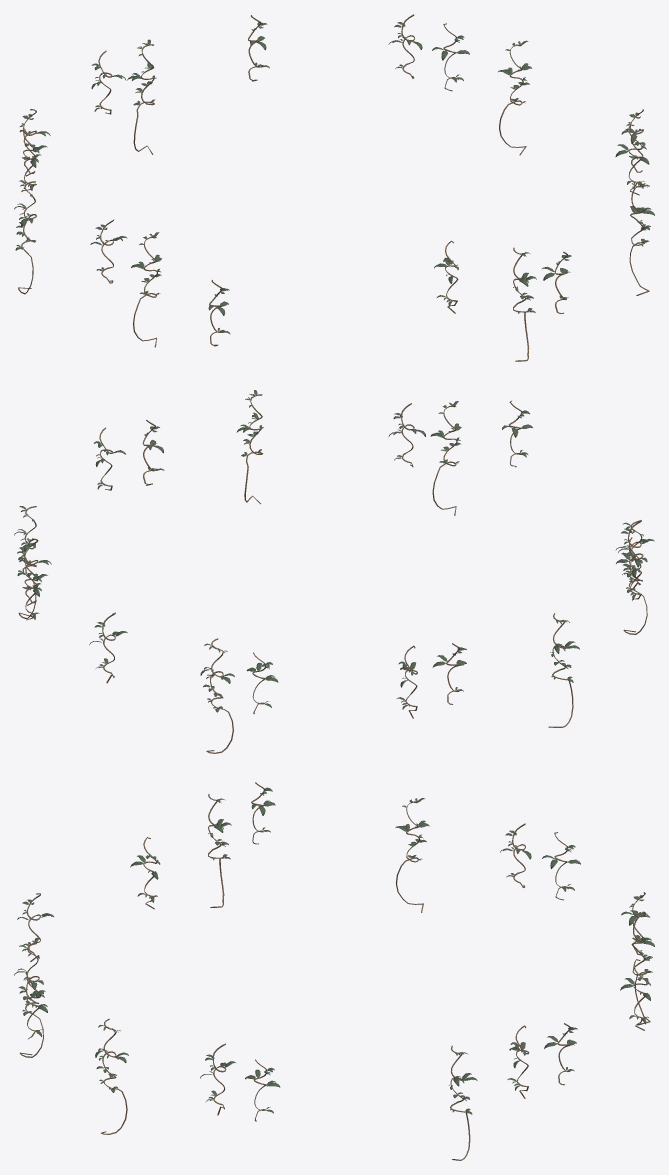
The model's file is atrium_Vines.fbx.
3 renders of one model, top to bottom at view 1: azimuth 30°, elevation 25°; view 2: azimuth 150°, elevation 25°; view 3: azimuth 270°, elevation 25°, orthographic.
Visible parts, largest first — view 1: Vines; view 2: Vines; view 3: Vines.
Part boxes in pixels (x1,y1,x2,y2): Vines: (14,14,654,361); Vines: (14,390,654,753); Vines: (14,782,654,1160).
Size of the model in its own units: 3579 by 821 by 3591.
